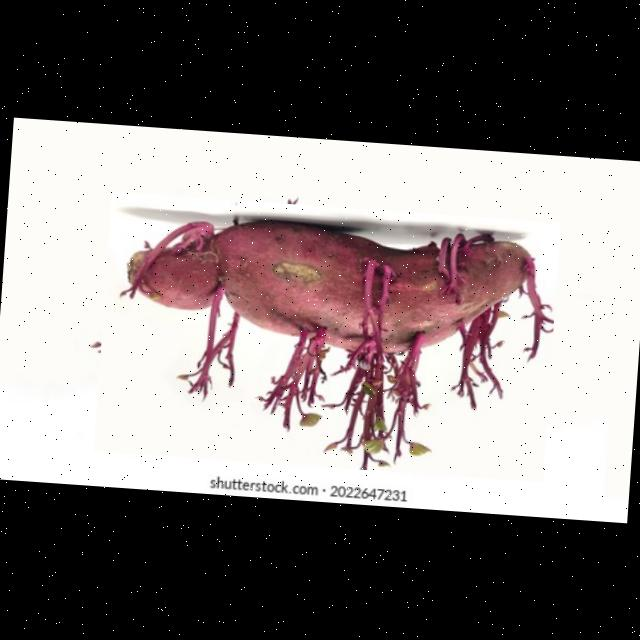Sprouted potato: (94, 191, 560, 482)
